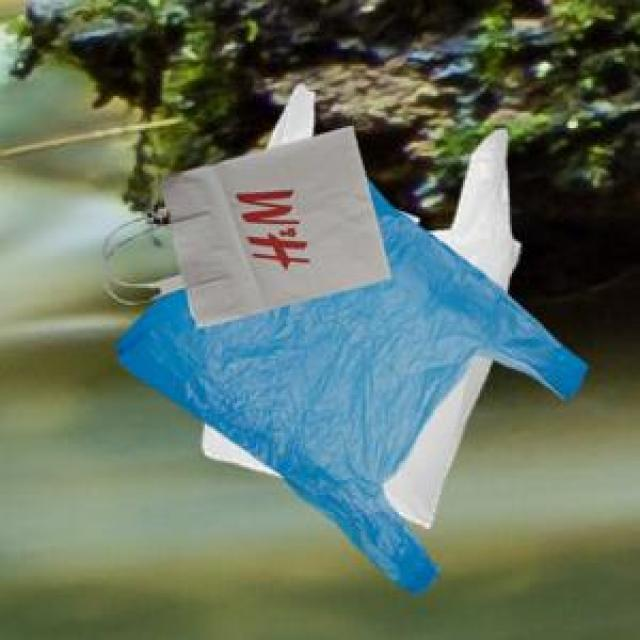paper: (134, 122, 386, 324)
